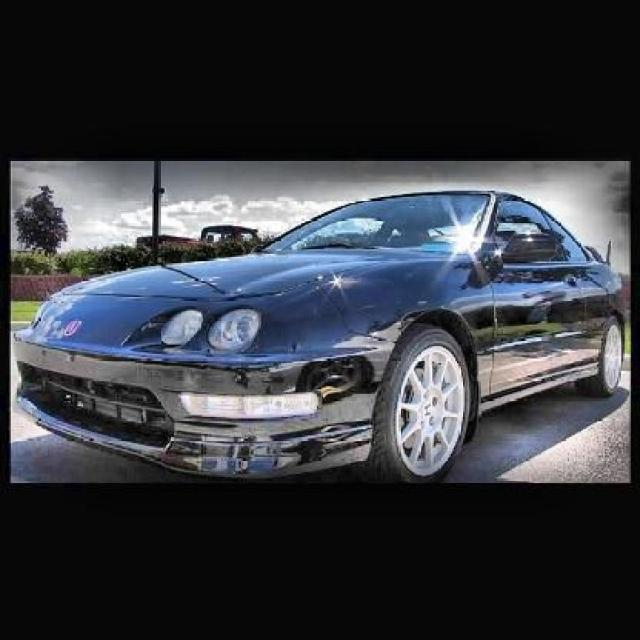black: (17, 186, 627, 492)
